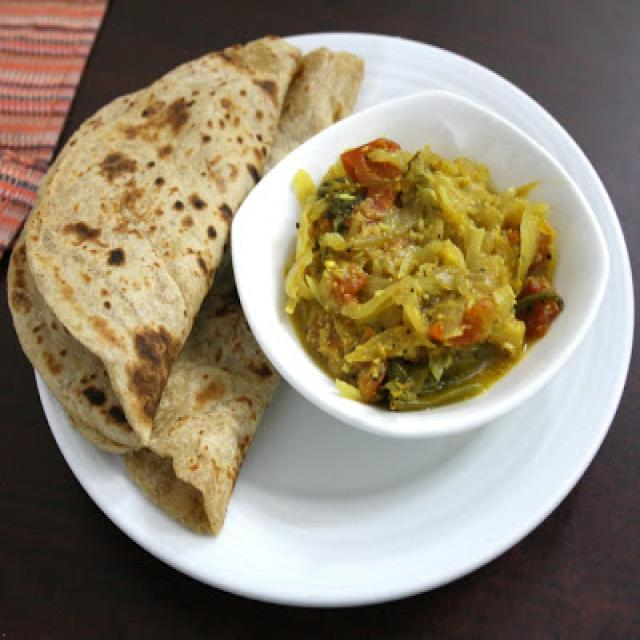chapathi: (5, 25, 297, 454)
